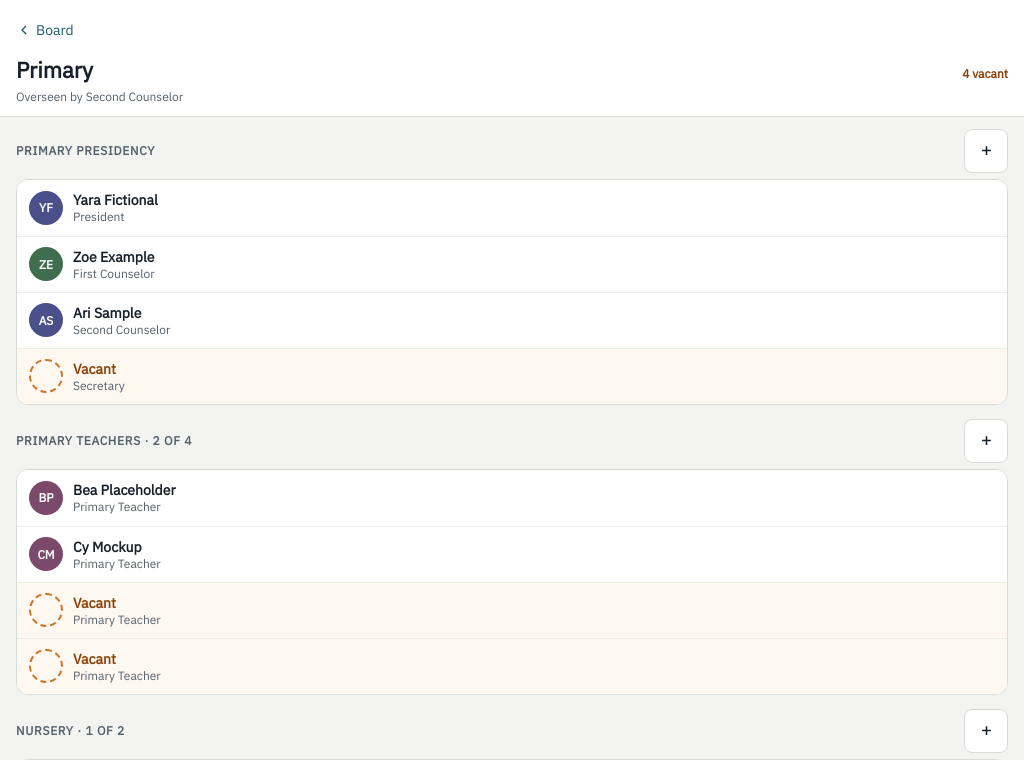
Test: PhoneBoard › Board returns to the list
Expected: the heading "Primary" is shown, 16,56 -> 93,85
Click the button "Board": [45, 30] box 8,8 -> 82,52
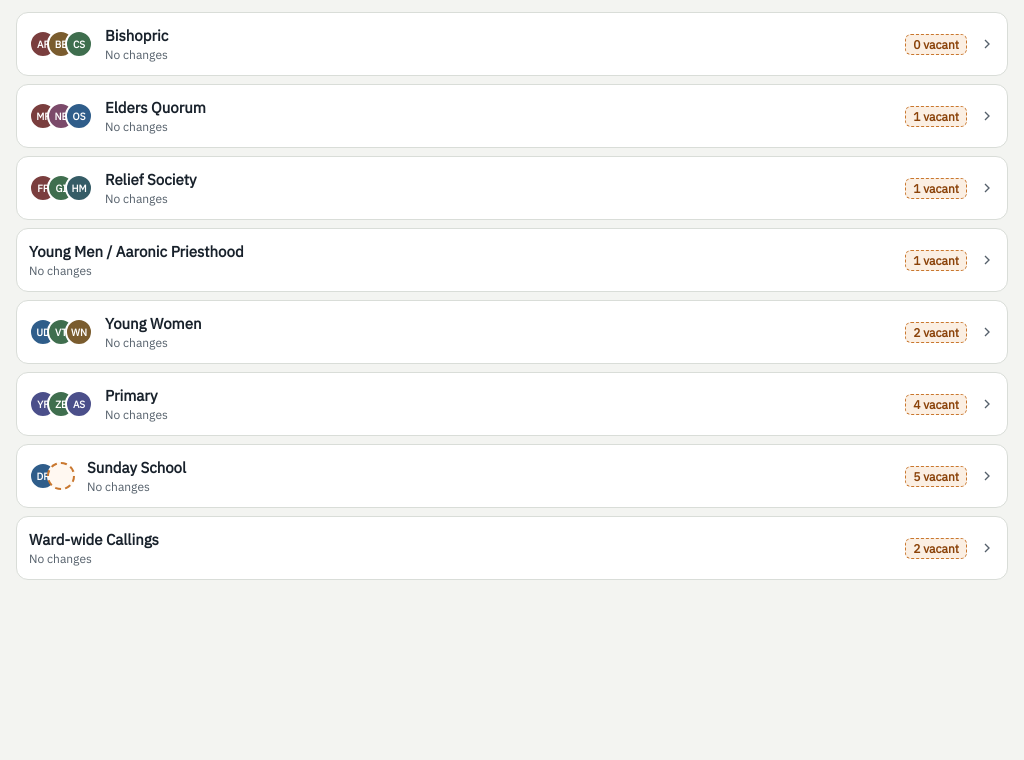
Result: the element named "Organizations" is shown
Result: the button with aria-label "Primary," is shown at 16,372 -> 1008,436
